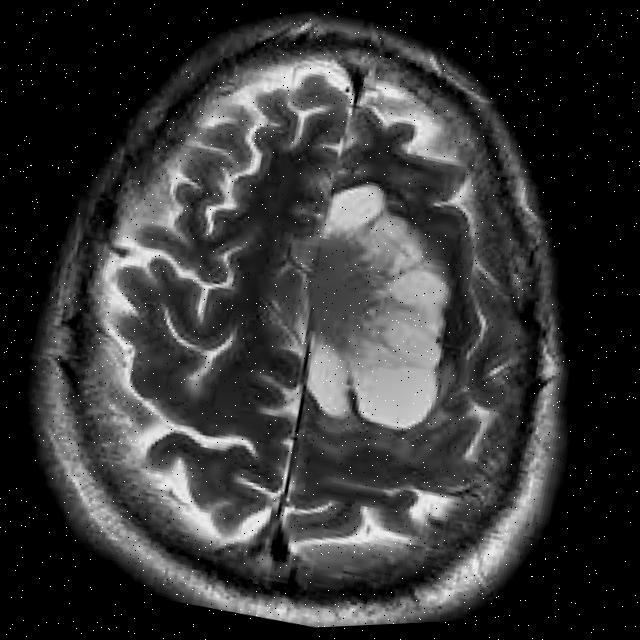Meningioma: (279, 169, 483, 444)
